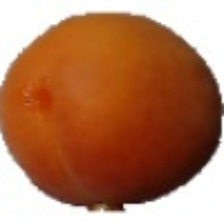apricot: (36, 20, 208, 164)
